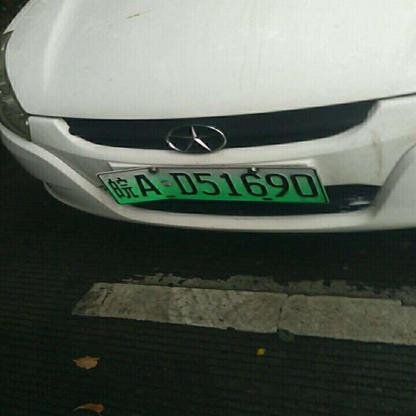lp: (98, 168, 330, 204)
